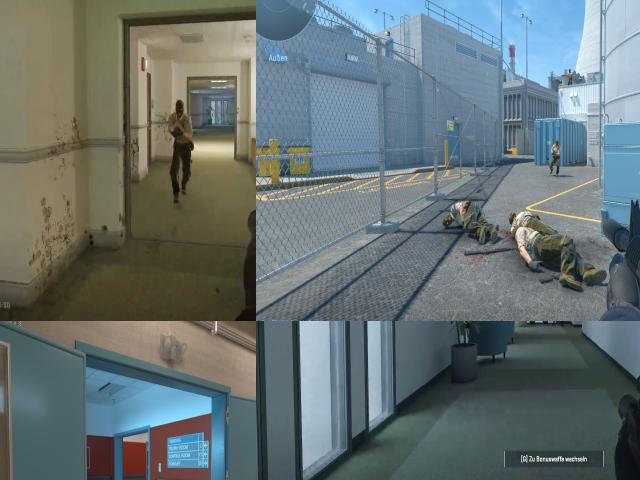Dead: (508, 201, 584, 273), (513, 227, 583, 288), (442, 192, 495, 237)
T: (170, 94, 194, 155), (549, 140, 562, 177), (568, 68, 573, 84)
T-Head: (172, 95, 189, 122), (554, 140, 560, 148), (568, 69, 572, 74)
